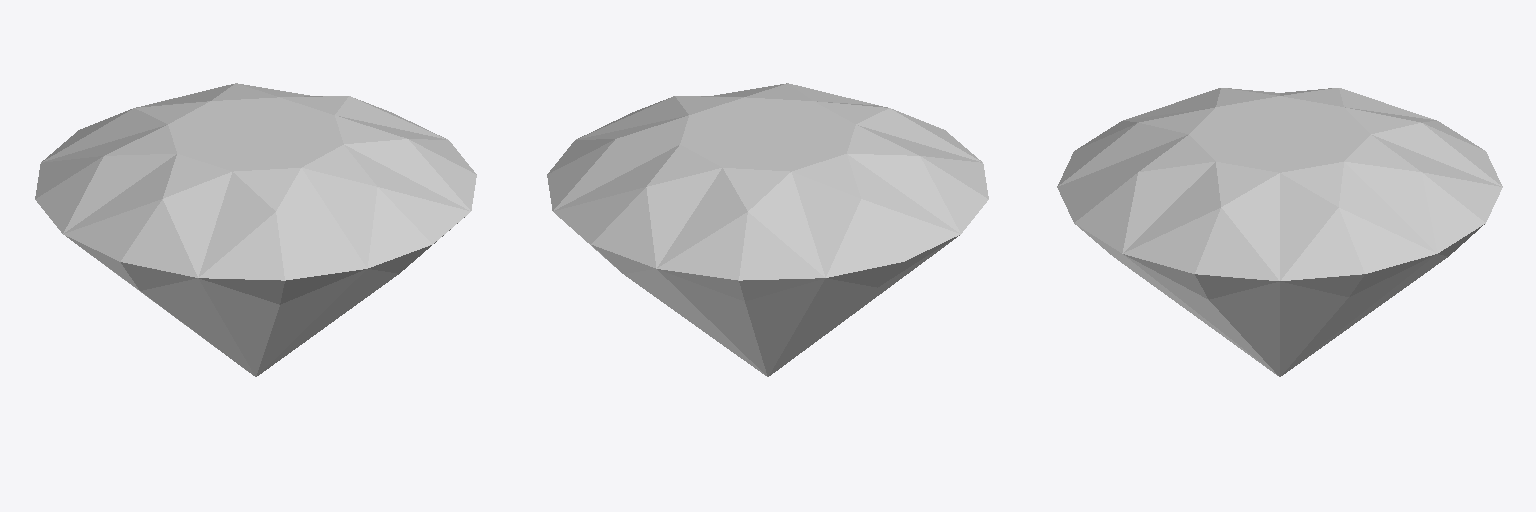
Rendered from Gem.obj.
3 views of the same model, side by side, from view 1: azimuth 30°, elevation 25°; view 2: azimuth 150°, elevation 25°; view 3: azimuth 270°, elevation 25° (orthographic).
Bounding box in the file's own units: 0.0359 × 0.0216 × 0.0359.